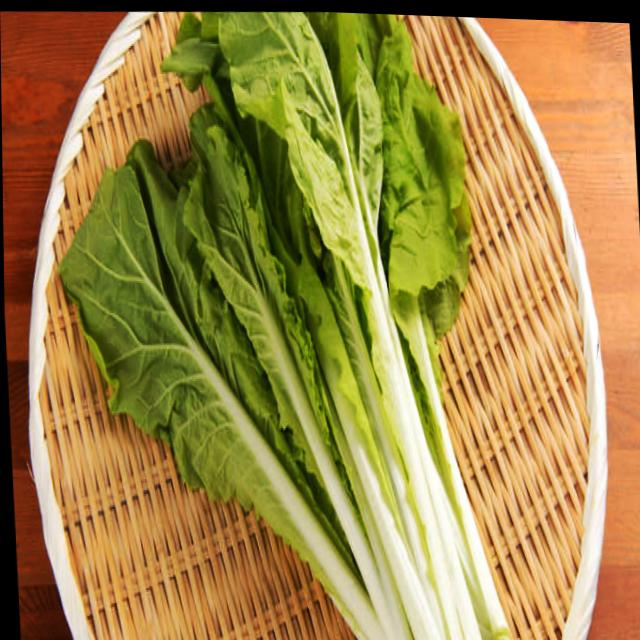chinese_cabbage: (45, 2, 543, 640)
